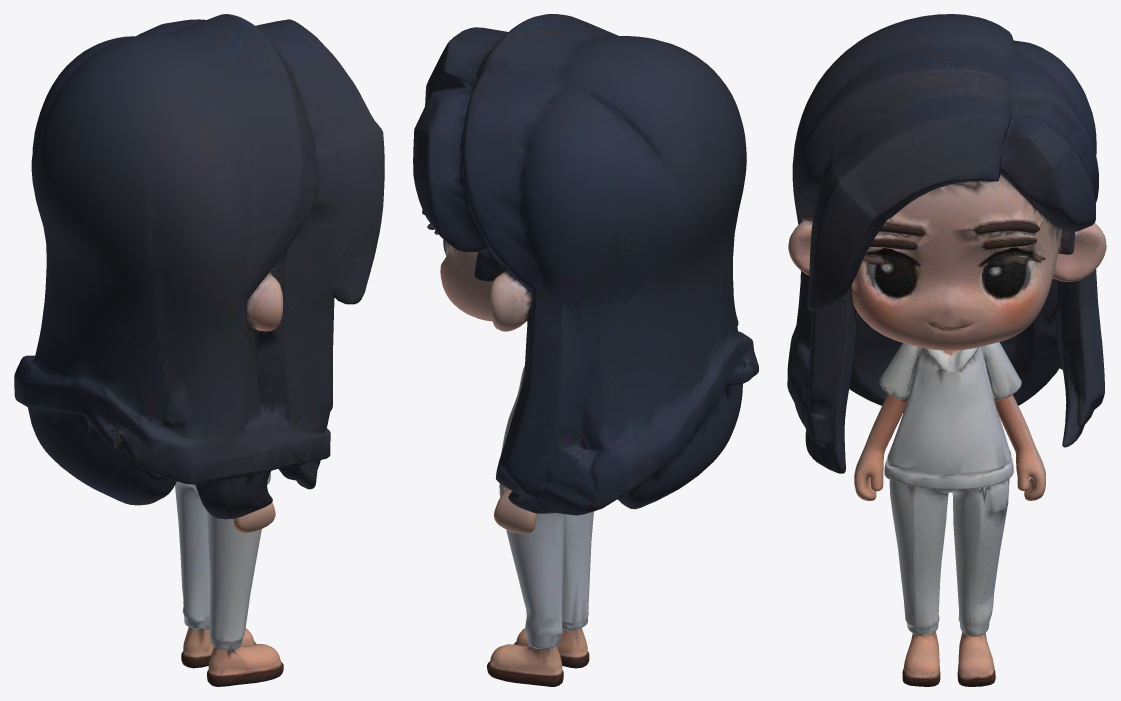
File: hair_f5-web.glb
The picture shows the model from 3 angles, left to right: view 1: azimuth 30°, elevation 25°; view 2: azimuth 150°, elevation 25°; view 3: azimuth 270°, elevation 25°; orthographic projection. The views are drawn at different scales.
Parts seen in each view (by area): view 1: tripo_node_6b1a3546-4a81-447b-afde-2ce061b95f09; view 2: tripo_node_6b1a3546-4a81-447b-afde-2ce061b95f09; view 3: tripo_node_6b1a3546-4a81-447b-afde-2ce061b95f09.
Part boxes in pixels (x1=…): tripo_node_6b1a3546-4a81-447b-afde-2ce061b95f09: x1=14, y1=14, x2=384, y2=686; tripo_node_6b1a3546-4a81-447b-afde-2ce061b95f09: x1=413, y1=14, x2=758, y2=686; tripo_node_6b1a3546-4a81-447b-afde-2ce061b95f09: x1=787, y1=14, x2=1106, y2=686.
Bounding box in the file's own units: 0.4737 × 0.9998 × 0.4709.
Materials: 1 (1 with a texture image).
